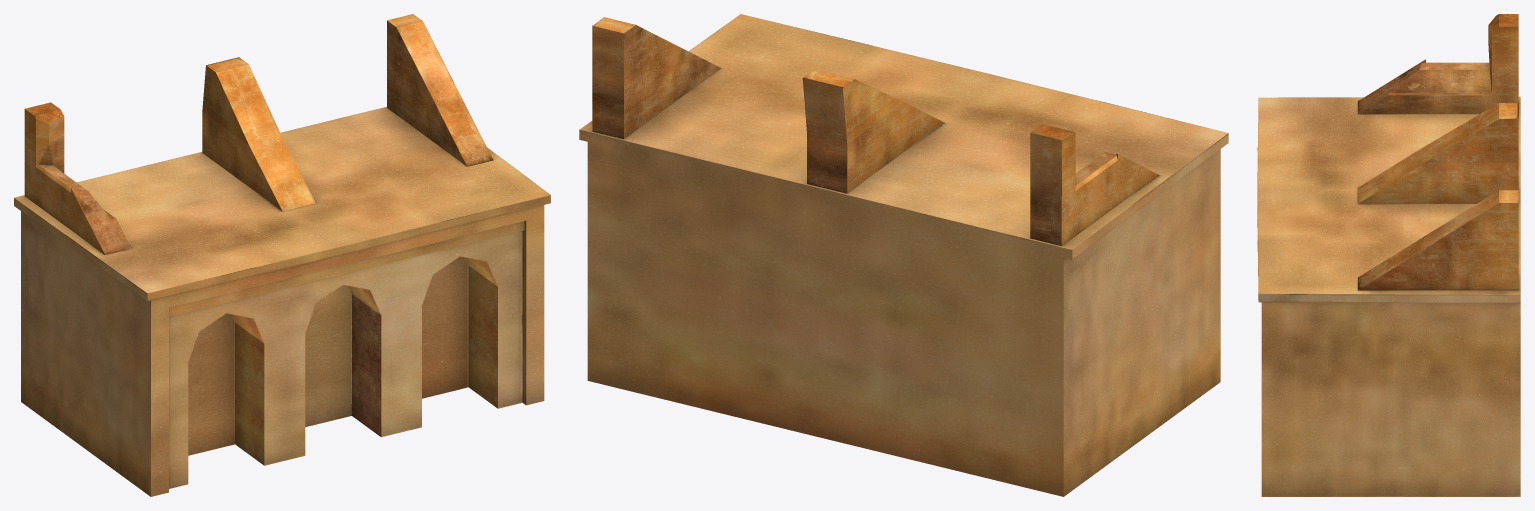
File: support-with-arches.glb
The picture shows the model from 3 angles, left to right: view 1: azimuth 30°, elevation 25°; view 2: azimuth 150°, elevation 25°; view 3: azimuth 270°, elevation 25°; orthographic projection. The views are drawn at different scales.
Parts seen in each view (by area): view 1: SupportWithArchesTextured-col; view 2: SupportWithArchesTextured-col; view 3: SupportWithArchesTextured-col.
Part boxes in pixels (x1=…): SupportWithArchesTextured-col: x1=14, y1=14, x2=550, y2=496; SupportWithArchesTextured-col: x1=579, y1=14, x2=1228, y2=496; SupportWithArchesTextured-col: x1=1257, y1=14, x2=1520, y2=496.
Size of the model in its own units: 14.5 by 9.97 by 8.14.
Materials: 1 (1 with a texture image).
